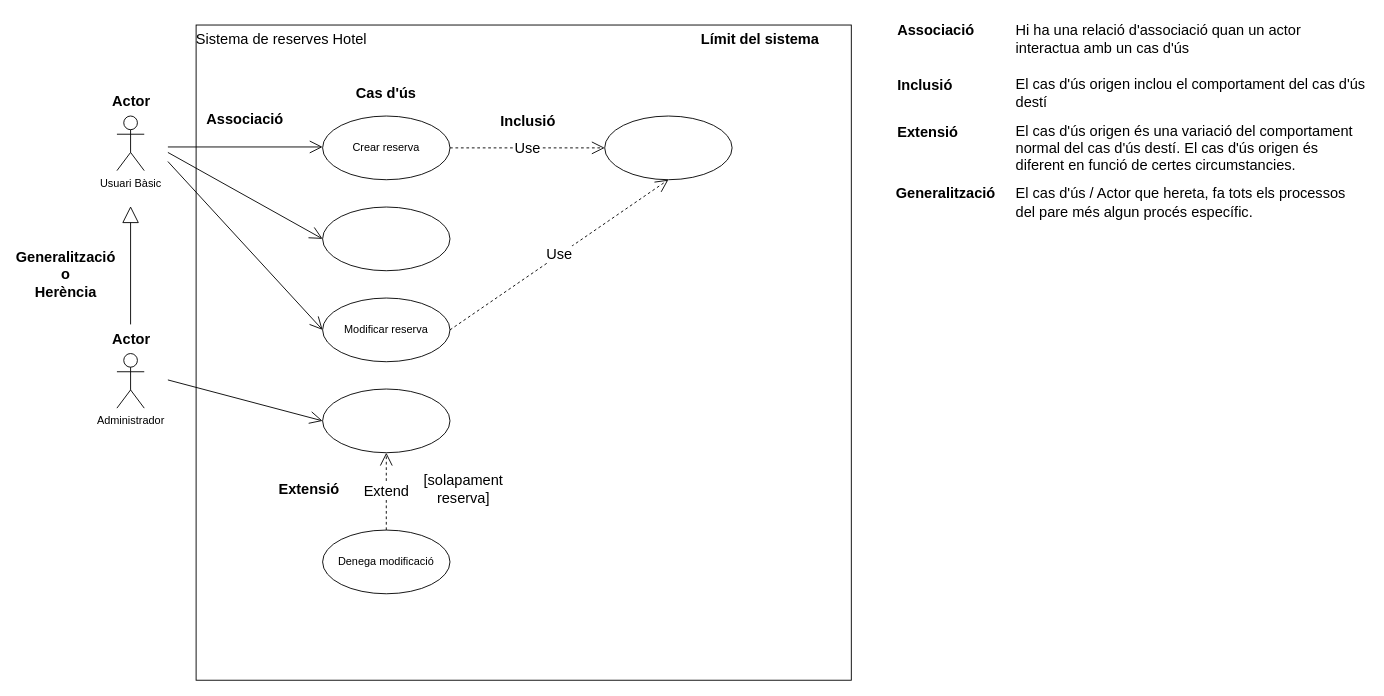
This 1384x696 diagram has some shape labels left out. The box of each missing label's shape, as (x1, y1, x2, y2) in pixels:
Accepta modificació: (322, 388, 450, 453)
Consultar reserva: (322, 206, 450, 271)
Verificar disponibilitat: (604, 115, 732, 180)
